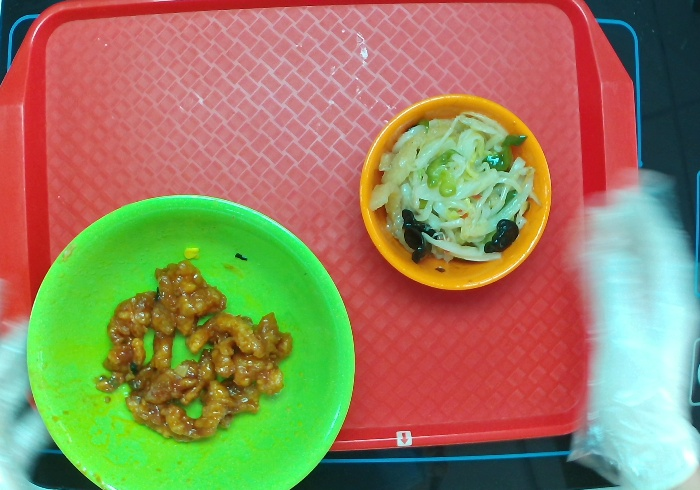YKMZ-Ju_Se_Yuan_Wan: (358, 90, 554, 291)
YKMZ-Lv_Se_Tang_Wan: (24, 192, 357, 490)
